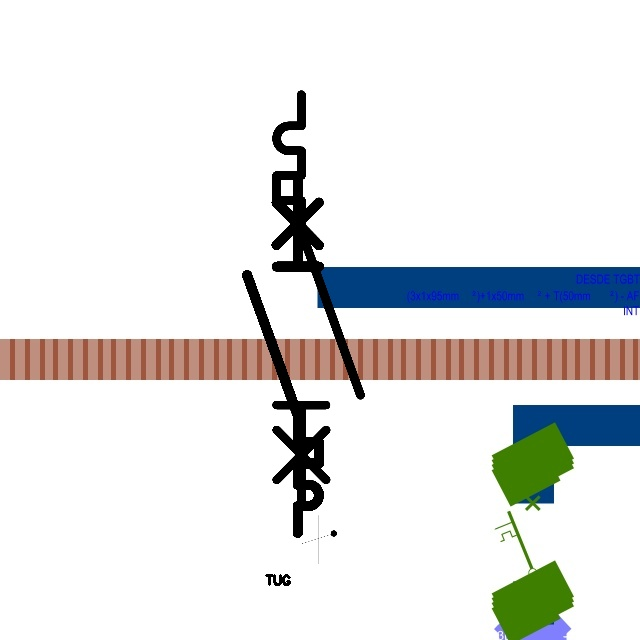interruptor_termomagnetico: (266, 84, 371, 515), (238, 172, 328, 542)
